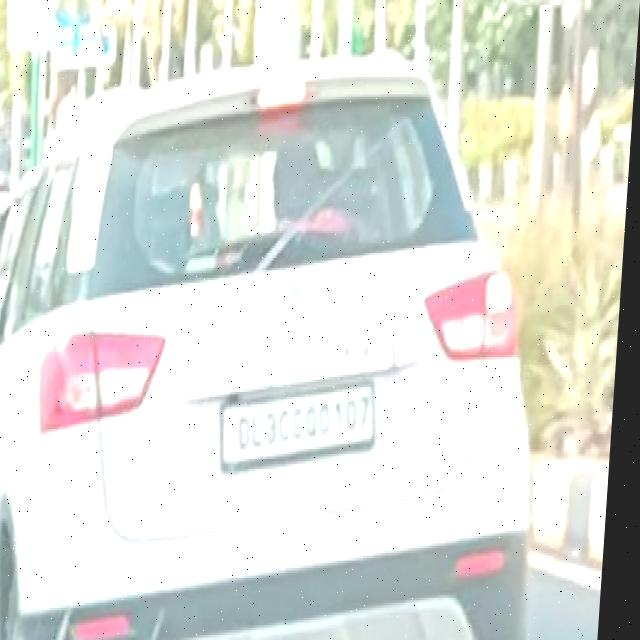plate: (217, 380, 384, 476)
